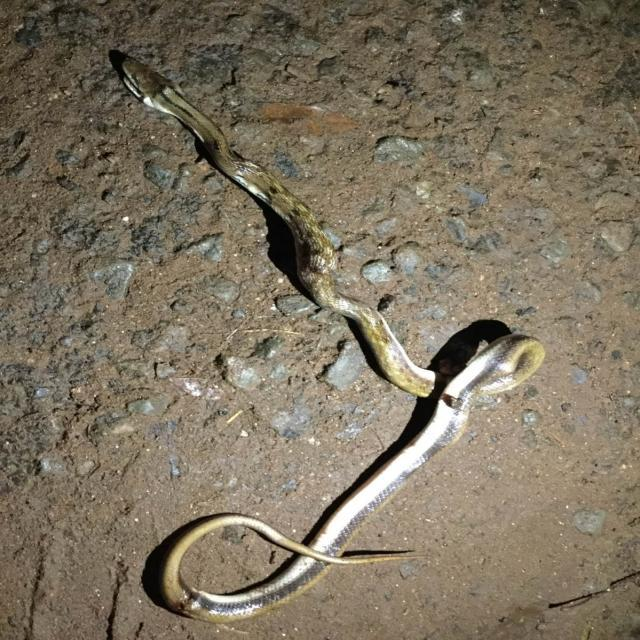Snake: (107, 48, 546, 624)
